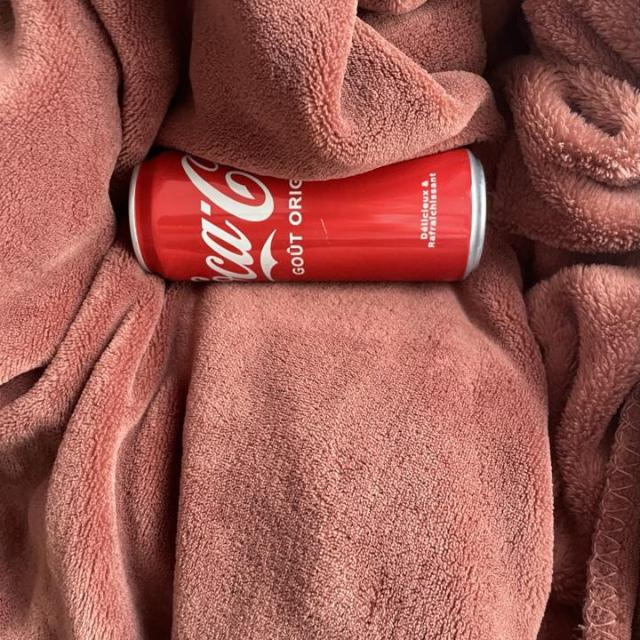can: (128, 148, 488, 288)
